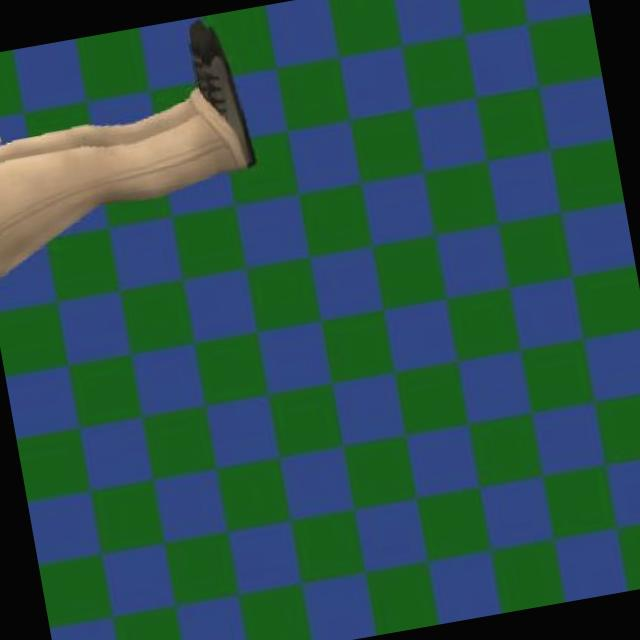Person: (0, 10, 277, 292)
